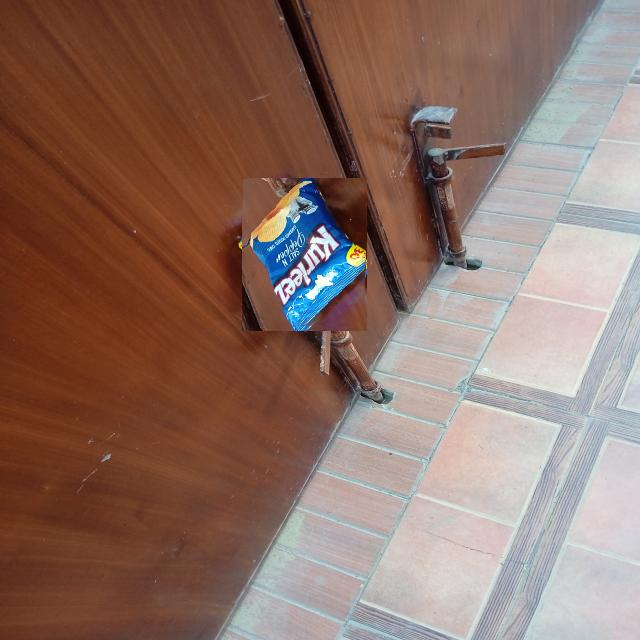Plastic: (242, 178, 367, 331)
